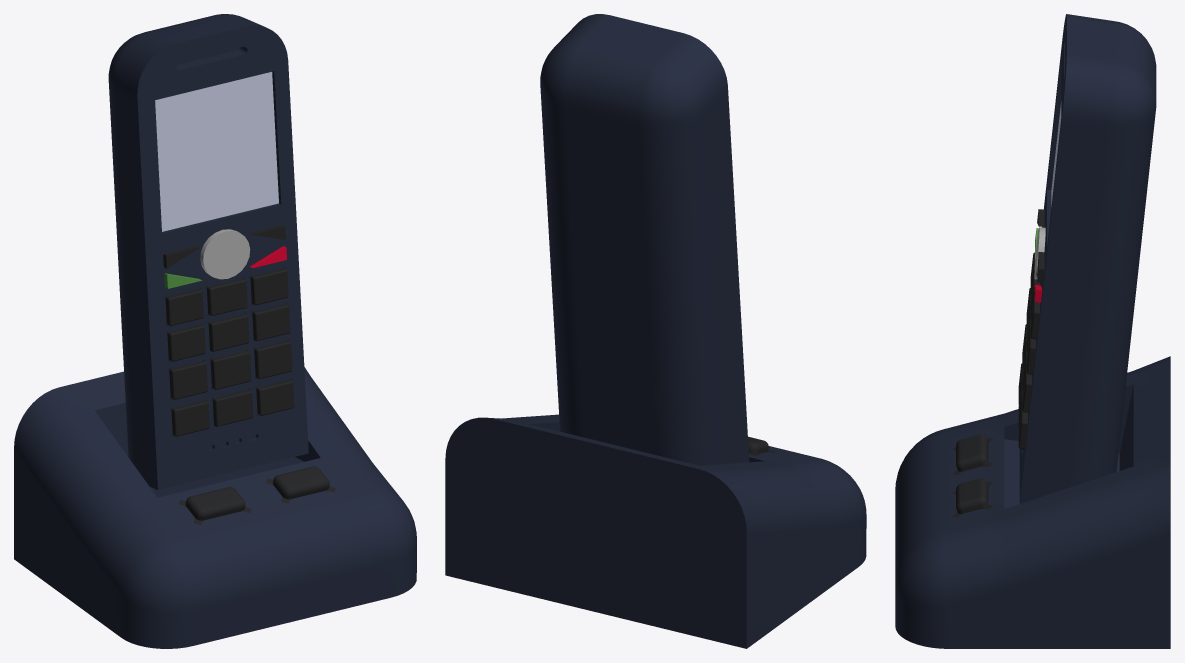
Rendered from WirelessPhone.fbx.
The picture shows the model from 3 angles, left to right: view 1: azimuth 30°, elevation 25°; view 2: azimuth 150°, elevation 25°; view 3: azimuth 270°, elevation 25°; orthographic projection. The views are drawn at different scales.
Parts seen in each view (by area): view 1: pCube3, pCube1; view 2: pCube3, pCube1; view 3: pCube1, pCube3.
Part boxes in pixels (x1,y1,x2,y2): pCube3: (108, 14, 308, 489); pCube1: (14, 367, 416, 648); pCube3: (540, 14, 749, 465); pCube1: (445, 414, 866, 648); pCube1: (895, 356, 1170, 648); pCube3: (1018, 14, 1156, 503).
Bounding box in the file's own units: 3.1 × 5.4 × 2.49.
